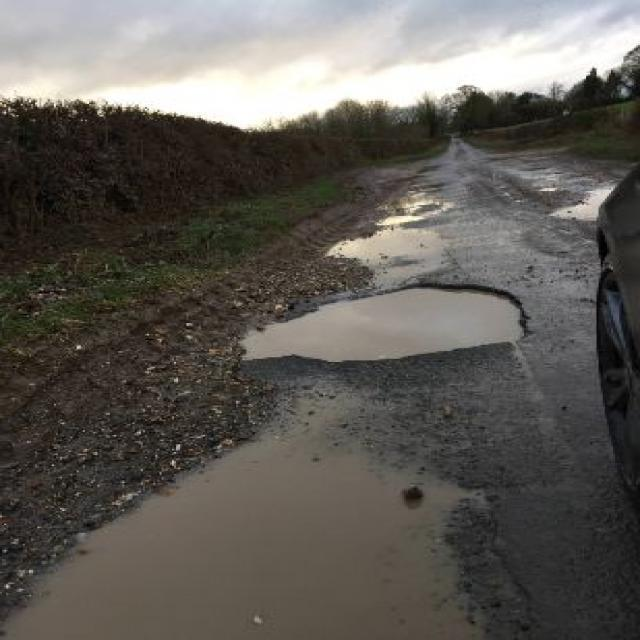Pothole: (2, 401, 508, 637), (228, 273, 539, 365), (323, 188, 458, 267)
